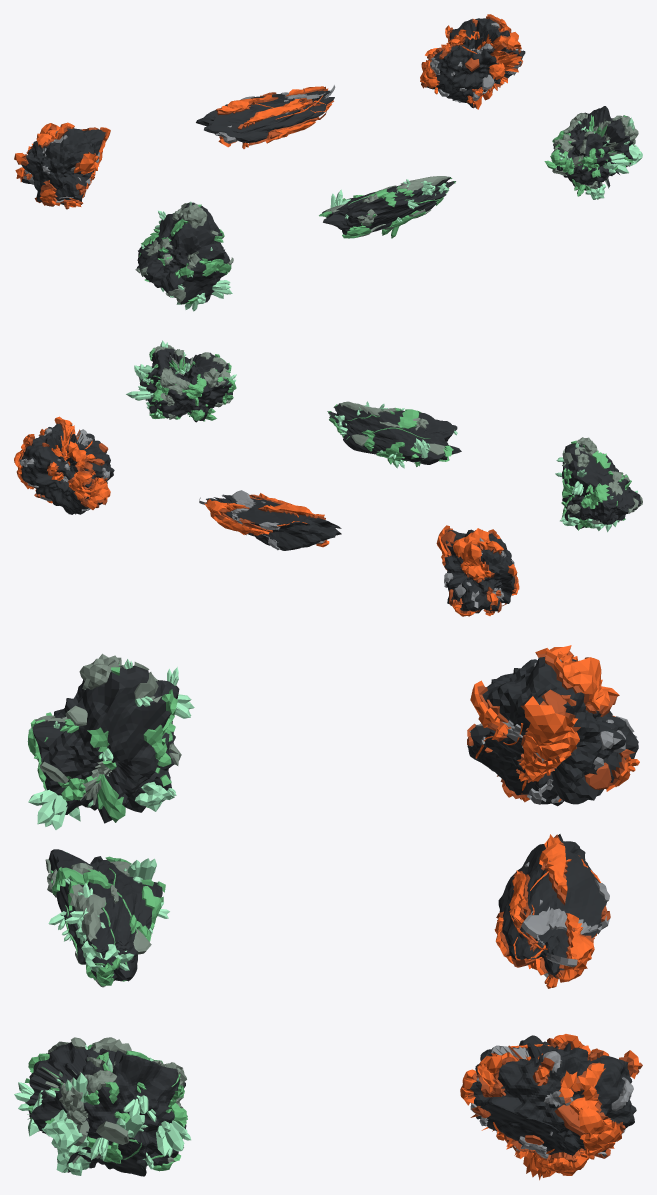
The model's file is ore_asteroids_phase_01_iron_nickel.glb.
3 views of the same model, one above another, from view 1: azimuth 30°, elevation 25°; view 2: azimuth 150°, elevation 25°; view 3: azimuth 270°, elevation 25° (orthographic). The views are drawn at different scales.
Parts seen in each view (by area): view 1: NICKEL_A_ROCK_BODY, IRON_C_ROCK_BODY, IRON_A_ROCK_BODY, IRON_B_ROCK_BODY, NICKEL_C_ROCK_BODY, NICKEL_B_ROCK_BODY, IRON_C_CRUST_ORANGE_LAYER, IRON_A_CRUST_ORANGE_LAYER, IRON_B_CRUST_ORANGE_LAYER, NICKEL_C_CRUST_GREEN_DEPOSIT, NICKEL_A_CRUST_GREEN_DEPOSIT, IRON_B_CRUST_REDBROWN_LAYER (+8 smaller); view 2: NICKEL_B_ROCK_BODY, IRON_C_ROCK_BODY, NICKEL_C_ROCK_BODY, NICKEL_A_ROCK_BODY, IRON_A_ROCK_BODY, IRON_B_ROCK_BODY, IRON_A_CRUST_ORANGE_LAYER, IRON_C_CRUST_ORANGE_LAYER, IRON_B_CRUST_ORANGE_LAYER, NICKEL_C_CRUST_GREEN_DEPOSIT, NICKEL_A_CRUST_GREEN_DEPOSIT, NICKEL_B_CRUST_GREEN_DEPOSIT (+8 smaller); view 3: NICKEL_A_ROCK_BODY, IRON_A_ROCK_BODY, NICKEL_C_ROCK_BODY, IRON_C_ROCK_BODY, IRON_A_CRUST_ORANGE_LAYER, IRON_B_ROCK_BODY, IRON_C_CRUST_ORANGE_LAYER, NICKEL_B_ROCK_BODY, IRON_B_CRUST_ORANGE_LAYER, NICKEL_A_CRUST_GREEN_DEPOSIT, IRON_C_CRUST_REDBROWN_LAYER, NICKEL_B_CRUST_GREEN_DEPOSIT (+13 smaller).
Part boxes in pixels (box(x1,y1,x2,y2)): NICKEL_A_ROCK_BODY: box(136, 202, 229, 304); IRON_C_ROCK_BODY: box(425, 18, 525, 108); IRON_A_ROCK_BODY: box(21, 128, 105, 204); IRON_B_ROCK_BODY: box(196, 90, 334, 142); NICKEL_C_ROCK_BODY: box(551, 106, 633, 198); NICKEL_B_ROCK_BODY: box(322, 177, 455, 235); IRON_C_CRUST_ORANGE_LAYER: box(420, 14, 522, 109); IRON_A_CRUST_ORANGE_LAYER: box(14, 122, 110, 207); IRON_B_CRUST_ORANGE_LAYER: box(218, 86, 331, 147); NICKEL_C_CRUST_GREEN_DEPOSIT: box(550, 115, 633, 199); NICKEL_A_CRUST_GREEN_DEPOSIT: box(141, 204, 231, 304); IRON_B_CRUST_REDBROWN_LAYER: box(216, 88, 333, 145); NICKEL_B_ROCK_BODY: box(327, 404, 461, 464); IRON_C_ROCK_BODY: box(21, 423, 114, 514); NICKEL_C_ROCK_BODY: box(139, 348, 233, 422); NICKEL_A_ROCK_BODY: box(562, 443, 641, 529); IRON_A_ROCK_BODY: box(444, 529, 514, 613); IRON_B_ROCK_BODY: box(206, 494, 341, 550); IRON_A_CRUST_ORANGE_LAYER: box(436, 525, 519, 616); IRON_C_CRUST_ORANGE_LAYER: box(14, 416, 110, 509); IRON_B_CRUST_ORANGE_LAYER: box(204, 493, 329, 547); NICKEL_C_CRUST_GREEN_DEPOSIT: box(143, 348, 236, 420); NICKEL_A_CRUST_GREEN_DEPOSIT: box(561, 440, 631, 530); NICKEL_B_CRUST_GREEN_DEPOSIT: box(329, 404, 453, 461); NICKEL_A_ROCK_BODY: box(32, 665, 179, 823); IRON_A_ROCK_BODY: box(467, 657, 638, 806); NICKEL_C_ROCK_BODY: box(25, 1042, 186, 1176); IRON_C_ROCK_BODY: box(470, 1035, 636, 1155); IRON_A_CRUST_ORANGE_LAYER: box(470, 645, 630, 802); IRON_B_ROCK_BODY: box(498, 834, 607, 978); IRON_C_CRUST_ORANGE_LAYER: box(460, 1034, 639, 1180); NICKEL_B_ROCK_BODY: box(49, 849, 162, 981); IRON_B_CRUST_ORANGE_LAYER: box(494, 834, 596, 983); NICKEL_A_CRUST_GREEN_DEPOSIT: box(28, 662, 177, 822); IRON_C_CRUST_REDBROWN_LAYER: box(467, 1038, 634, 1176); NICKEL_B_CRUST_GREEN_DEPOSIT: box(50, 856, 165, 985).
Size of the model in its own units: 14.54 by 2.66 by 8.43.
